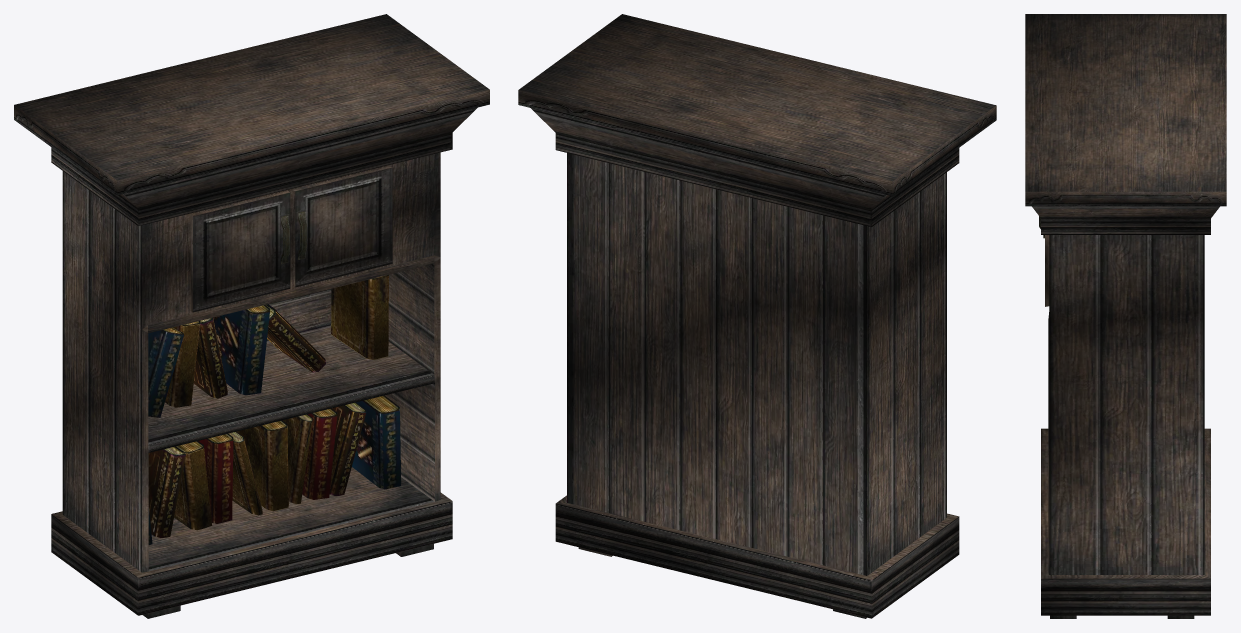
The model's file is GS_VOB_BOOKCASE_BLACK_02_KOZA.glb.
The picture shows the model from 3 angles, left to right: view 1: azimuth 30°, elevation 25°; view 2: azimuth 150°, elevation 25°; view 3: azimuth 270°, elevation 25°; orthographic projection. The views are drawn at different scales.
Parts seen in each view (by area): view 1: Mesh; view 2: Mesh; view 3: Mesh.
Part boxes in pixels (x1,y1,x2,y2): Mesh: [14, 14, 489, 618]; Mesh: [518, 14, 996, 618]; Mesh: [1025, 14, 1226, 618].
Size of the model in its own units: 1.41 by 1.66 by 0.6779.
Materials: 4 (4 with a texture image).
